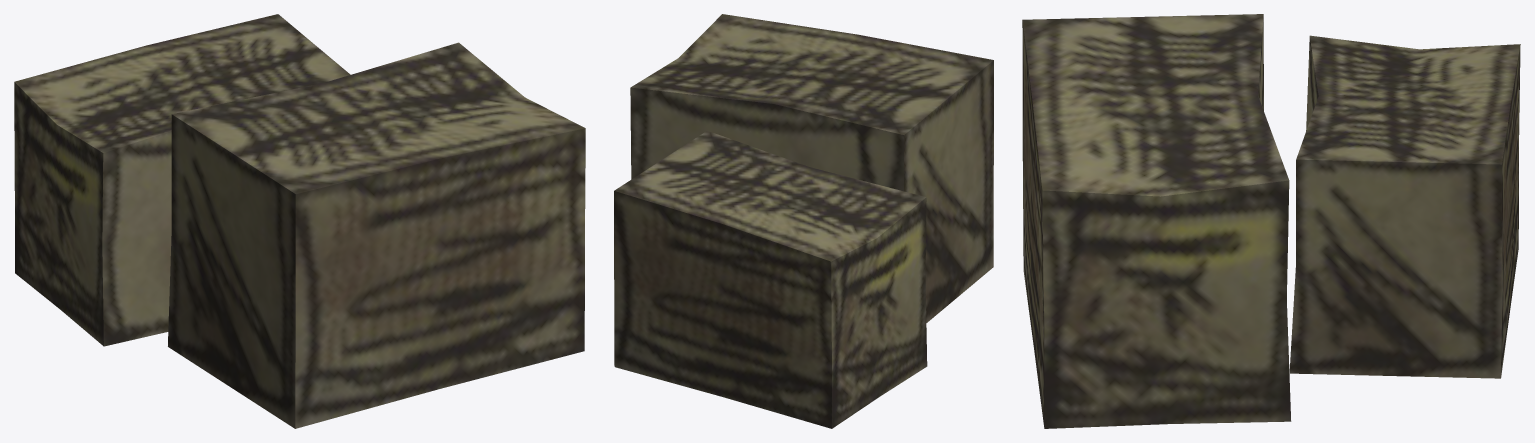
File: boxcardboard1.fbx
The picture shows the model from 3 angles, left to right: view 1: azimuth 30°, elevation 25°; view 2: azimuth 150°, elevation 25°; view 3: azimuth 270°, elevation 25°; orthographic projection. The views are drawn at different scales.
Visible parts, largest first — view 1: Boxes.012; view 2: Boxes.012; view 3: Boxes.012.
Boxes of the visible parts, x1,y1,x2,y2 form: Boxes.012: [14, 14, 585, 428]; Boxes.012: [614, 14, 993, 428]; Boxes.012: [1022, 14, 1520, 428].
Bounding box in the file's own units: 39.25 × 24.91 × 44.37.
